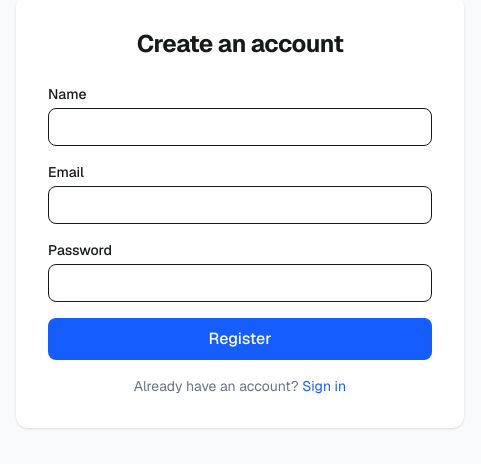
Test: RegisterPage › shows error on duplicate email
Type "Bob" into the field labelled "Name".
click(240, 127); type("Bob")  # box [48,108,432,146]
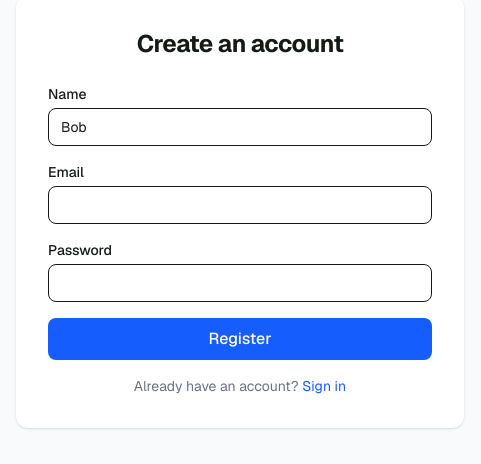
Type "dup@test.com" into the field labelled "Email".
click(240, 205); type("dup@test.com")  # box [48,186,432,224]
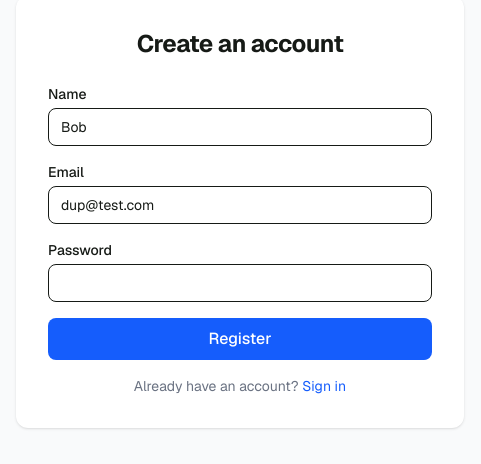
Type "pass1234" into the password field labelled "Password".
click(240, 283); type("pass1234")  # box [48,264,432,302]
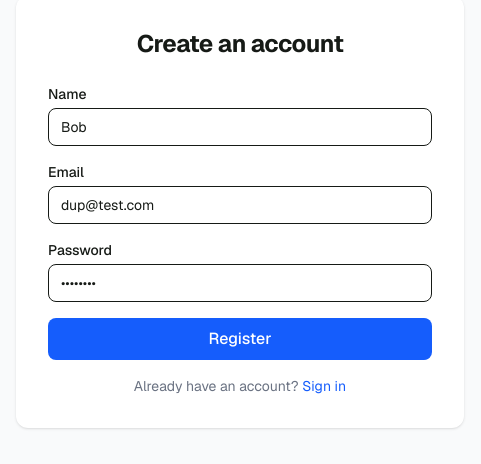
Click the button "Register".
click(240, 339)  # box [48,318,432,360]
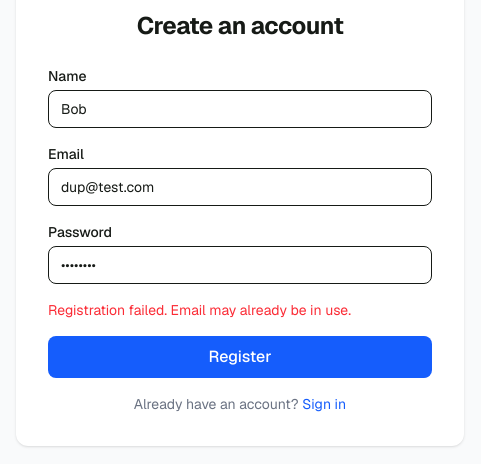
Now the text "Registration failed. Email may already be in use." is shown, box [48,301,351,319]
